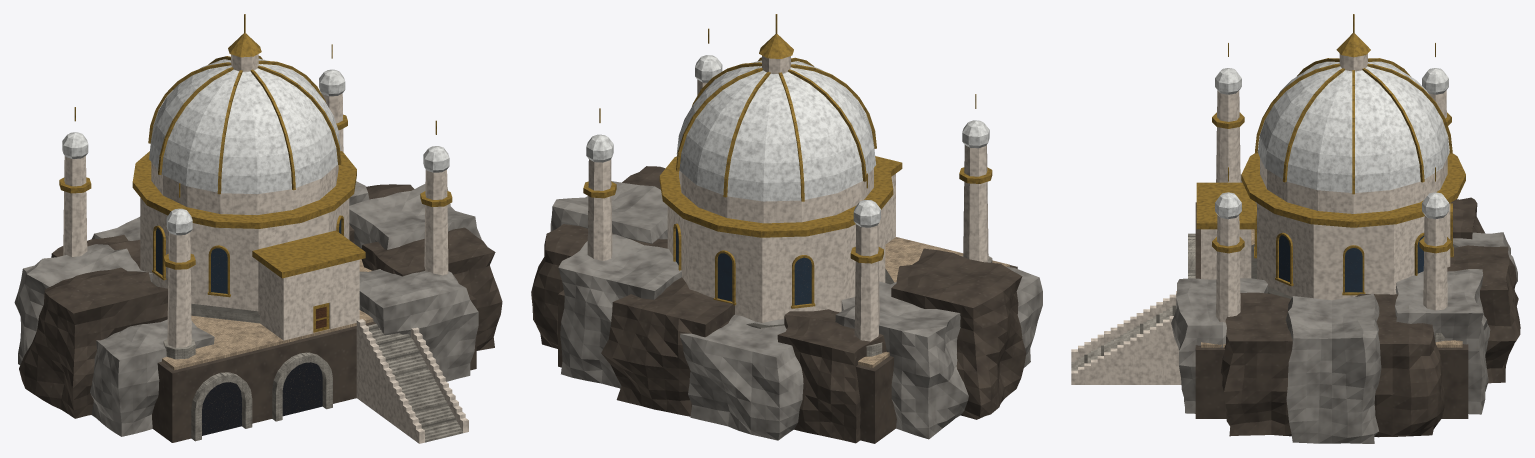
File: Ride_AtlantisTemple.fbx
3 renders of one model, left to right at view 1: azimuth 30°, elevation 25°; view 2: azimuth 150°, elevation 25°; view 3: azimuth 270°, elevation 25°, orthographic. The views are drawn at different scales.
Parts seen in each view (by area): view 1: Dome, Drum, Rock_08, Porch, Stair, RockCore, Rock_13, Rock_09, TrackPortals, Rock_14, Rock_01, Rock_07 (+9 smaller); view 2: Drum, Dome, Rock_08, Rock_05, Rock_04, Rock_07, Rock_03, Rock_06, Rock_01, Minaret_NW, Minaret_SW, Rock_02 (+8 smaller); view 3: Dome, Drum, Rock_01, Rock_14, Rock_02, Stair, Rock_03, Rock_04, Rock_13, RockCore, Porch, Minaret_SE (+6 smaller).
Part boxes in pixels (x1,y1,x2,y2): Dome: (148,56,341,194); Drum: (132,150,356,323); Rock_08: (19,267,167,418); Porch: (252,230,365,340); Stair: (356,319,468,443); RockCore: (152,293,476,442); Rock_13: (359,269,478,381); Rock_09: (90,319,214,436); TrackPortals: (191,352,332,441); Rock_14: (361,227,502,350); Rock_01: (349,184,481,249); Rock_07: (14,244,152,364); Drum: (659,156,894,328); Dome: (676,57,876,201); Rock_08: (891,248,1026,419); Rock_05: (680,314,803,440); Rock_04: (601,277,734,416); Rock_07: (835,281,968,439); Rock_03: (558,234,681,388); Rock_06: (777,309,886,443); Rock_01: (550,181,667,243); Minaret_NW: (850,173,883,356); Minaret_SW: (959,94,992,262); Rock_02: (531,224,667,348); Dome: (1255,58,1452,194); Drum: (1241,151,1465,300); Rock_01: (1285,293,1381,443); Rock_14: (1221,292,1292,436); Rock_02: (1355,294,1444,437); Stair: (1071,291,1181,384); Rock_03: (1395,269,1490,414); Rock_04: (1447,245,1520,383); Rock_13: (1171,278,1267,413); RockCore: (1195,202,1468,418); Porch: (1196,182,1255,279); Minaret_SE: (1212,167,1244,322).
Bounding box in the file's own units: 44.63 × 33.5 × 41.2.
